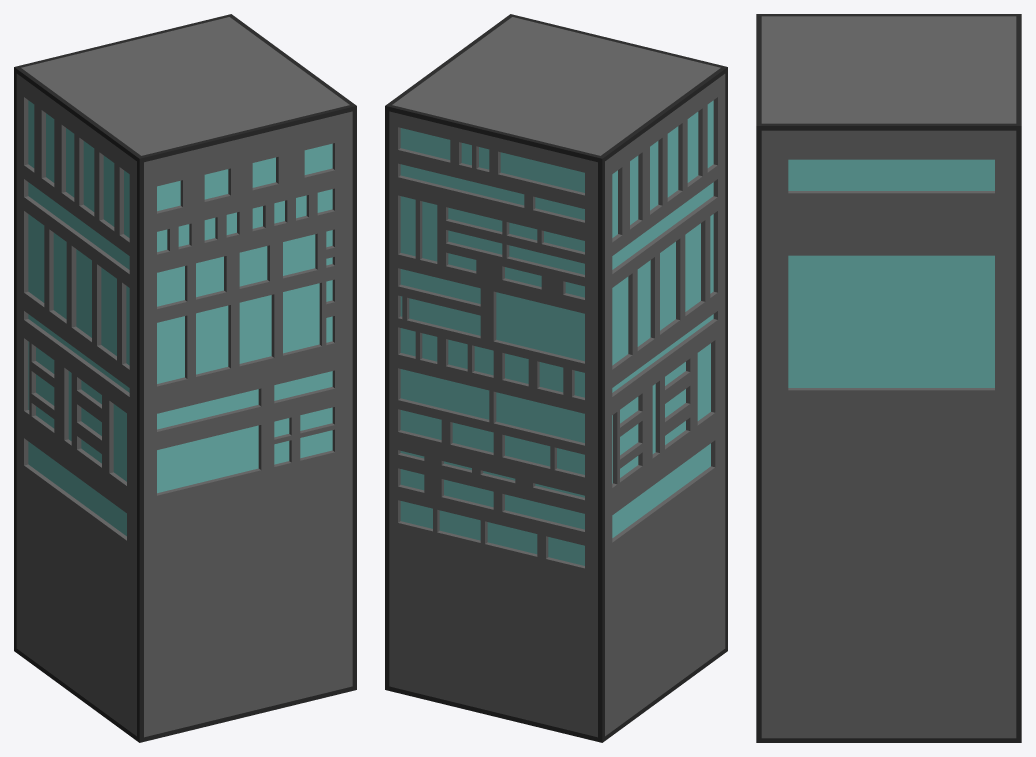
Rendered from Building.fbx.
3 renders of one model, left to right at view 1: azimuth 30°, elevation 25°; view 2: azimuth 150°, elevation 25°; view 3: azimuth 270°, elevation 25°, orthographic. The views are drawn at different scales.
Parts seen in each view (by area): view 1: Building.001; view 2: Building.001; view 3: Building.001.
Boxes of the visible parts, bbox=[...] form: Building.001: bbox=[14, 14, 356, 742]; Building.001: bbox=[385, 14, 727, 742]; Building.001: bbox=[756, 14, 1021, 742].
Bounding box in the file's own units: 871 × 871 × 2237.
